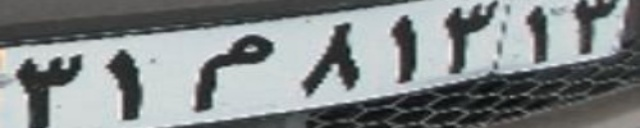1: (103, 50, 142, 119), (390, 15, 418, 82), (524, 5, 549, 62)
3: (17, 54, 80, 125), (441, 0, 500, 74), (569, 0, 620, 54)
8: (297, 22, 356, 93)
mim: (185, 33, 276, 111)
